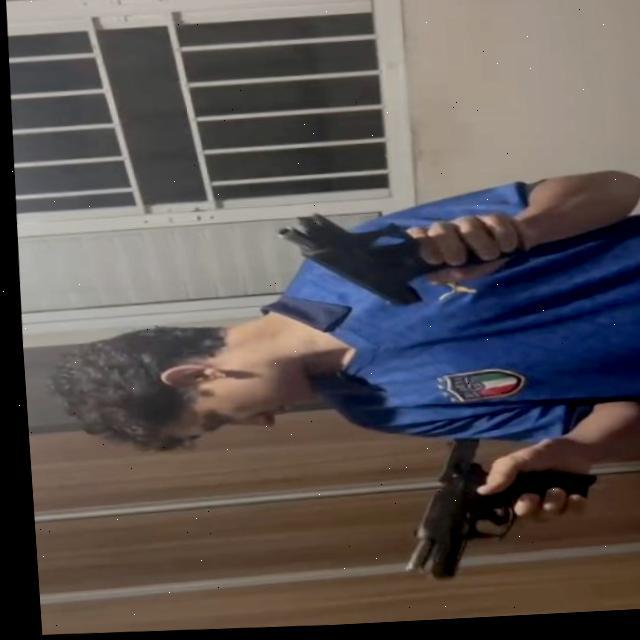gun: (385, 434, 597, 590), (270, 208, 520, 316)
